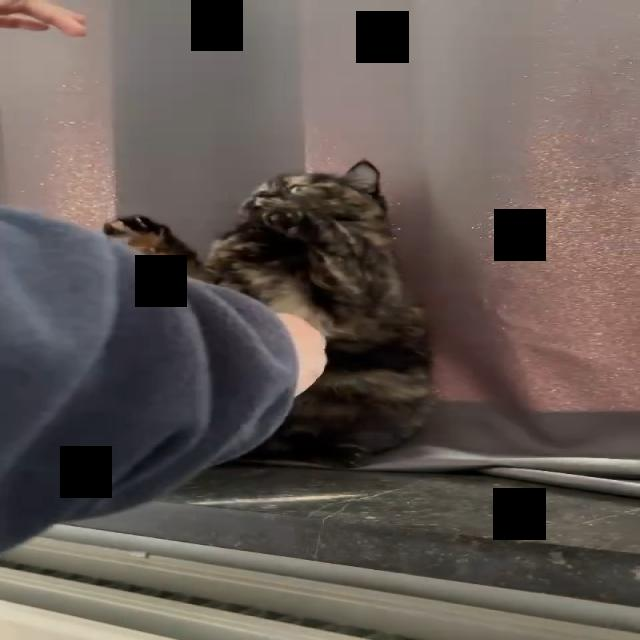authorized: (100, 157, 439, 467)
